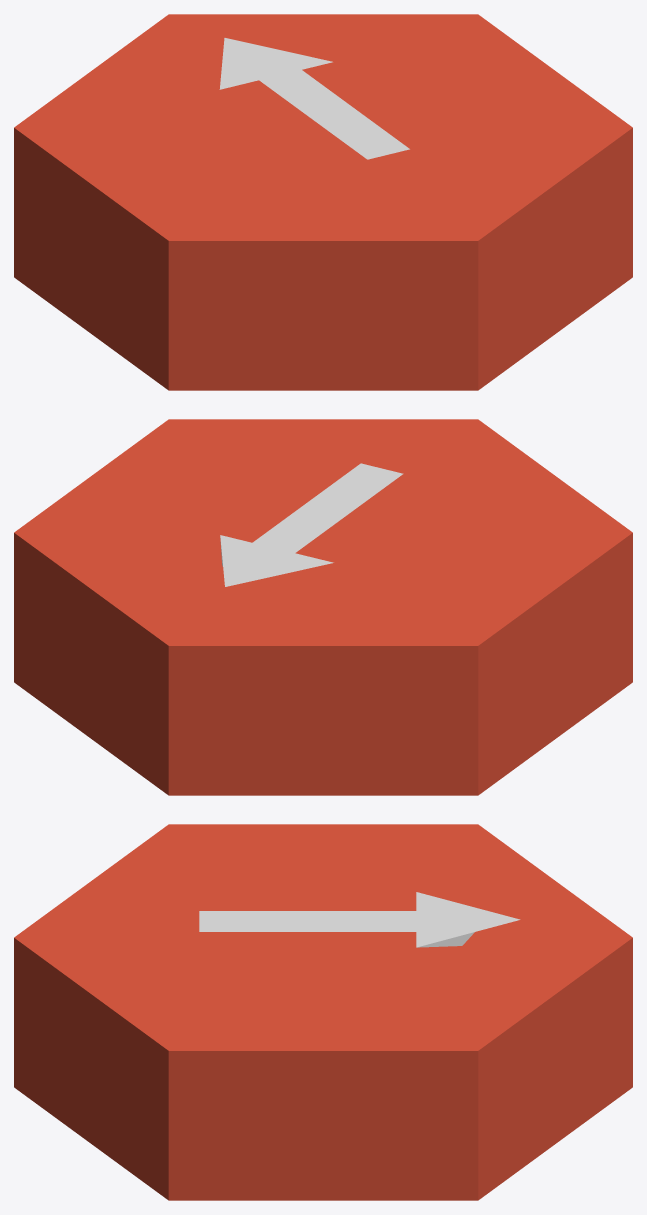
The picture shows the model from 3 angles, top to bottom: view 1: azimuth 30°, elevation 25°; view 2: azimuth 150°, elevation 25°; view 3: azimuth 270°, elevation 25°; orthographic projection.
Visible parts, largest first — view 1: Circle.007, MP_Brick_Terrain.005; view 2: Circle.007, MP_Brick_Terrain.005; view 3: Circle.007, MP_Brick_Terrain.005.
Part boxes in pixels (bbox=[...]): Circle.007: bbox=[14, 14, 632, 390]; MP_Brick_Terrain.005: bbox=[219, 38, 409, 159]; Circle.007: bbox=[14, 419, 632, 795]; MP_Brick_Terrain.005: bbox=[220, 463, 403, 586]; Circle.007: bbox=[14, 824, 632, 1200]; MP_Brick_Terrain.005: bbox=[199, 892, 520, 947].
Bounding box in the file's own units: 1956 × 674 × 2258.
